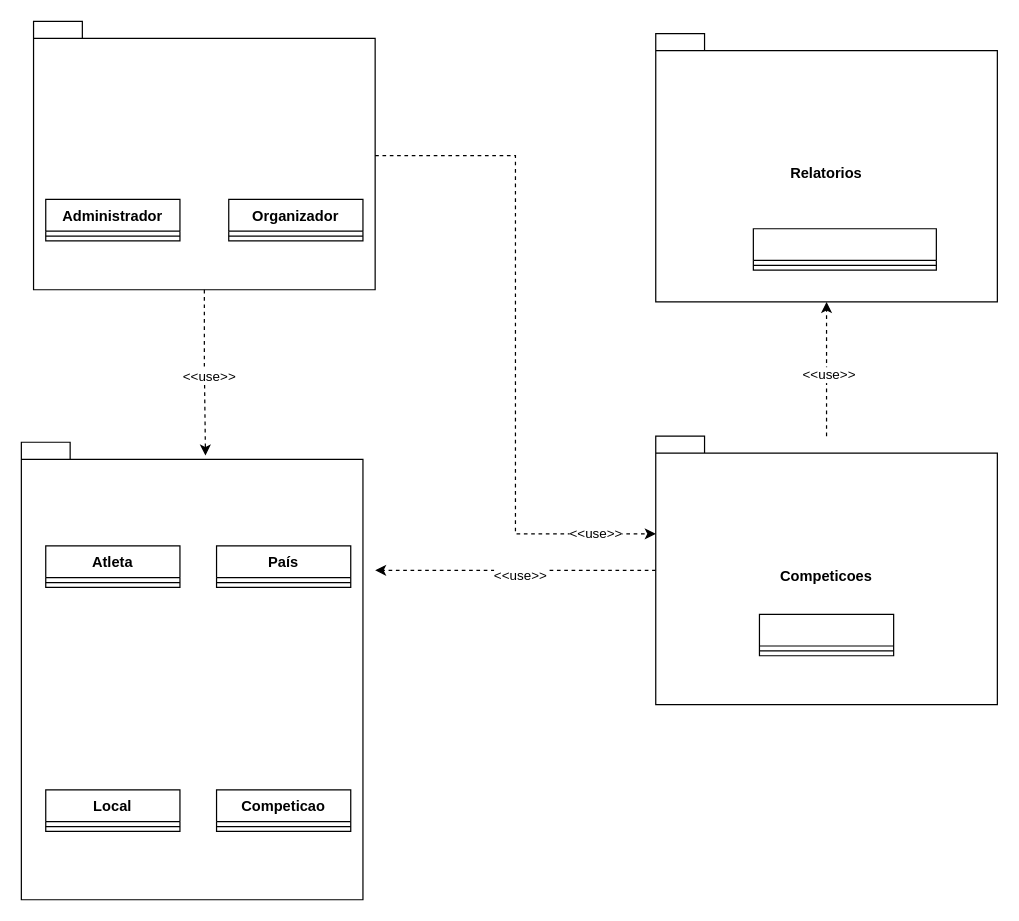
Some shapes in this 1019 by 921 pixel diagram are drawn without their labels. Each missing label, with the box of its shape:
Gerenciamento: (20, 441, 363, 900)
RelatorioMedalhas: (752, 228, 936, 270)
Resultado: (758, 613, 894, 656)
Usuarios: (32, 20, 375, 290)
